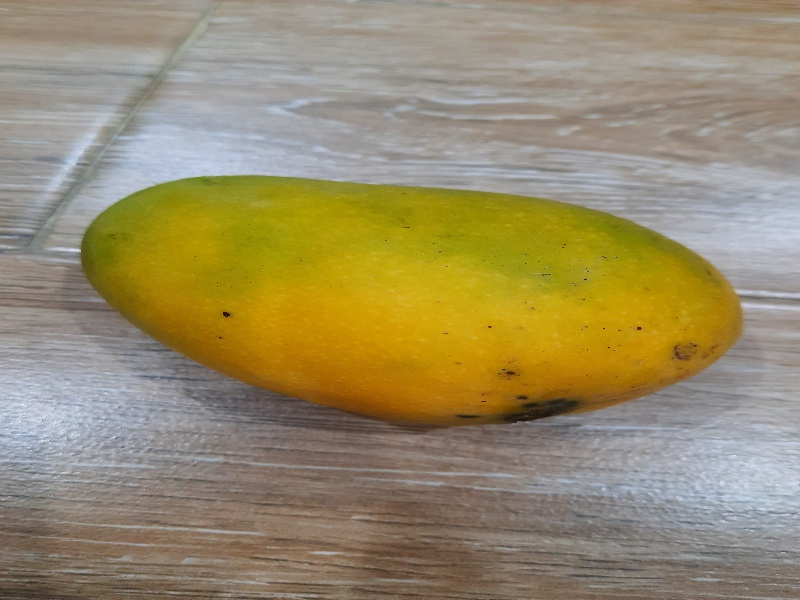fruit: (79, 171, 746, 435)
